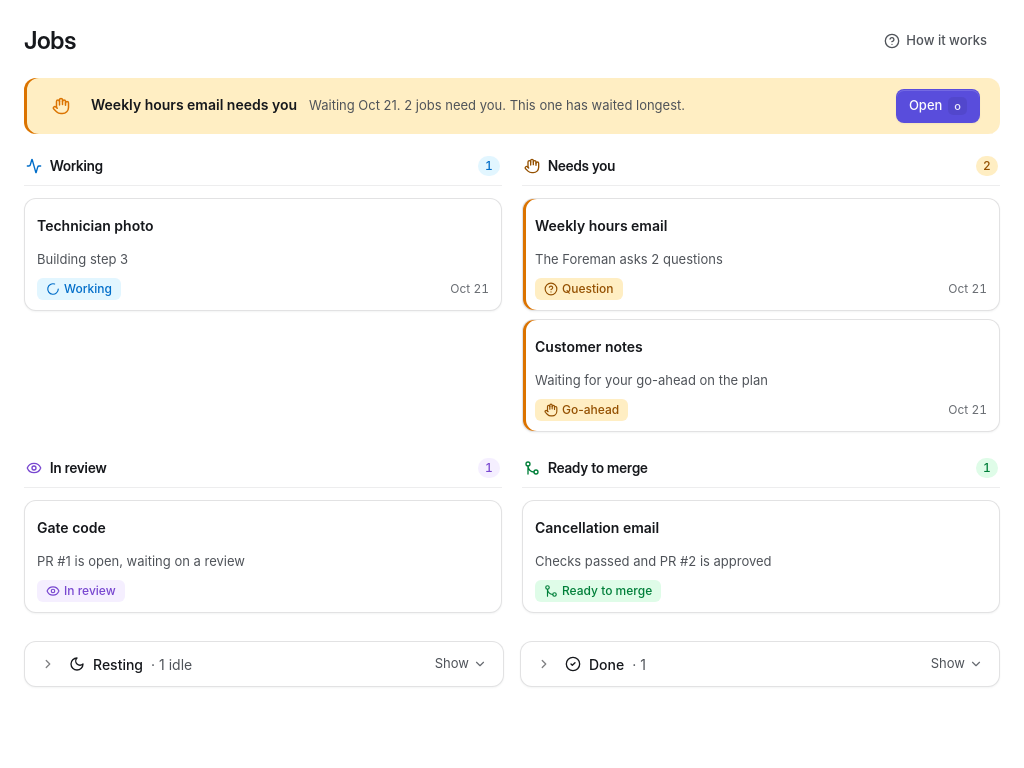
it: Jobs, simple by default (packet R) › a click on a card’s empty area opens its quick look and puts it in the address
Click the list item "Gate code" at (263, 557), box [24,500,502,613]
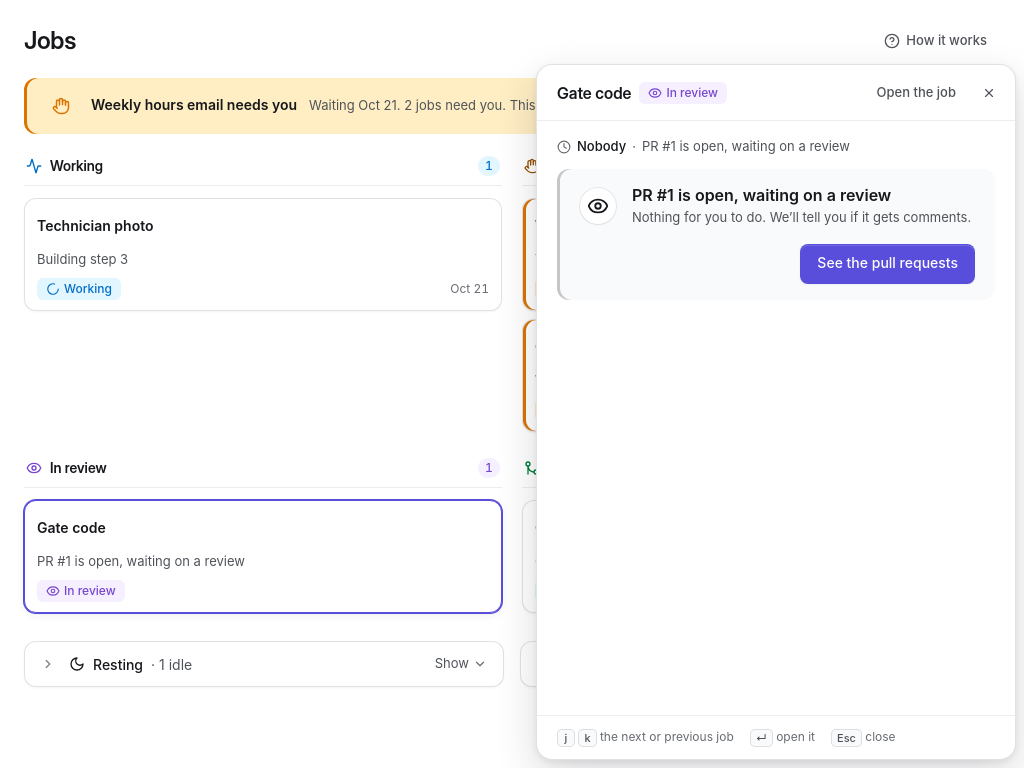
Check: the dialog named "Gate code: a quick look" is shown, box [536,64,1016,760]
